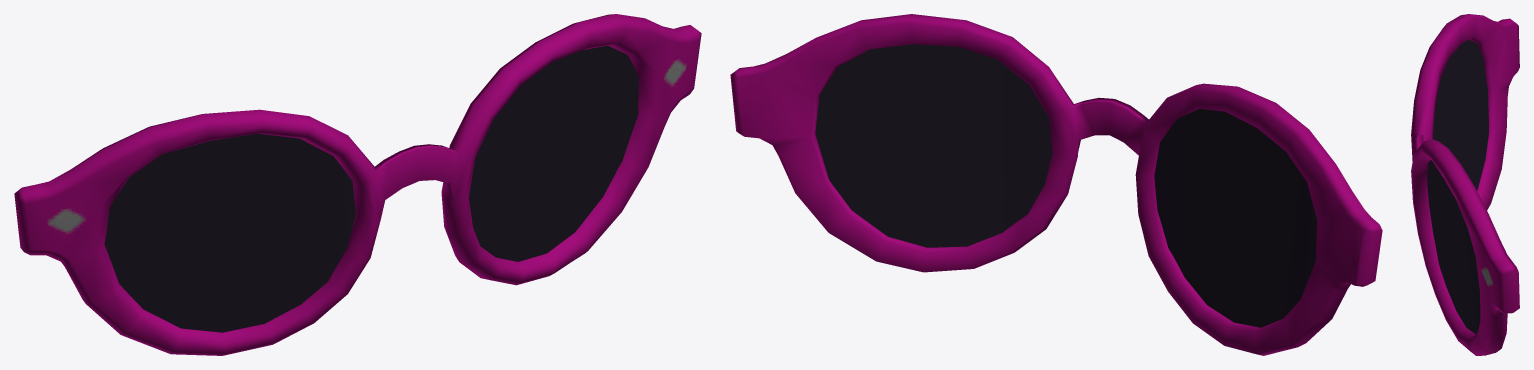
The model's file is AccessoryGlassBoston4.glb.
The picture shows the model from 3 angles, left to right: view 1: azimuth 30°, elevation 25°; view 2: azimuth 150°, elevation 25°; view 3: azimuth 270°, elevation 25°; orthographic projection. The views are drawn at different scales.
Parts seen in each view (by area): view 1: AccessoryAlpha__AccessoryGlassBostonBlackHigh_mAccessory; view 2: AccessoryAlpha__AccessoryGlassBostonBlackHigh_mAccessory; view 3: AccessoryAlpha__AccessoryGlassBostonBlackHigh_mAccessory.
Part boxes in pixels (x1,y1,x2,y2): AccessoryAlpha__AccessoryGlassBostonBlackHigh_mAccessory: (14, 14, 701, 355); AccessoryAlpha__AccessoryGlassBostonBlackHigh_mAccessory: (730, 14, 1382, 355); AccessoryAlpha__AccessoryGlassBostonBlackHigh_mAccessory: (1411, 14, 1519, 355).
Size of the model in its own units: 6.82 by 2.42 by 1.24.
1 material, 1 textured.
